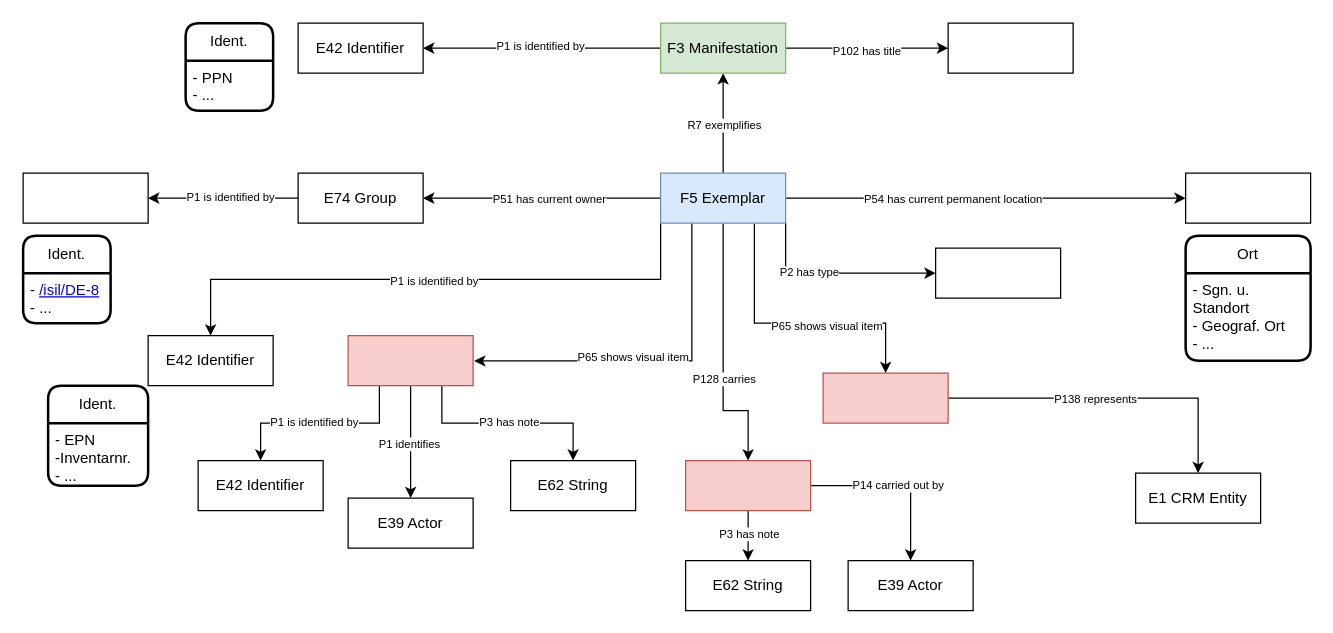
Image size: 1333x633. Some labels were removed from this diagram. Here are the shapes that lost their labels. From the top down, the centre of each, then its label:
At (1010,47): "E35 Title".
At (85,197): "E42 ISIL".
At (1247,197): "E53 Place".
At (997,272): "E55 Type (Exemplartyp nach T-Pro)".
At (410,360): "E37 Mark".
At (885,397): "E36 Visual Item".
At (747,485): "E34 Inscription".
